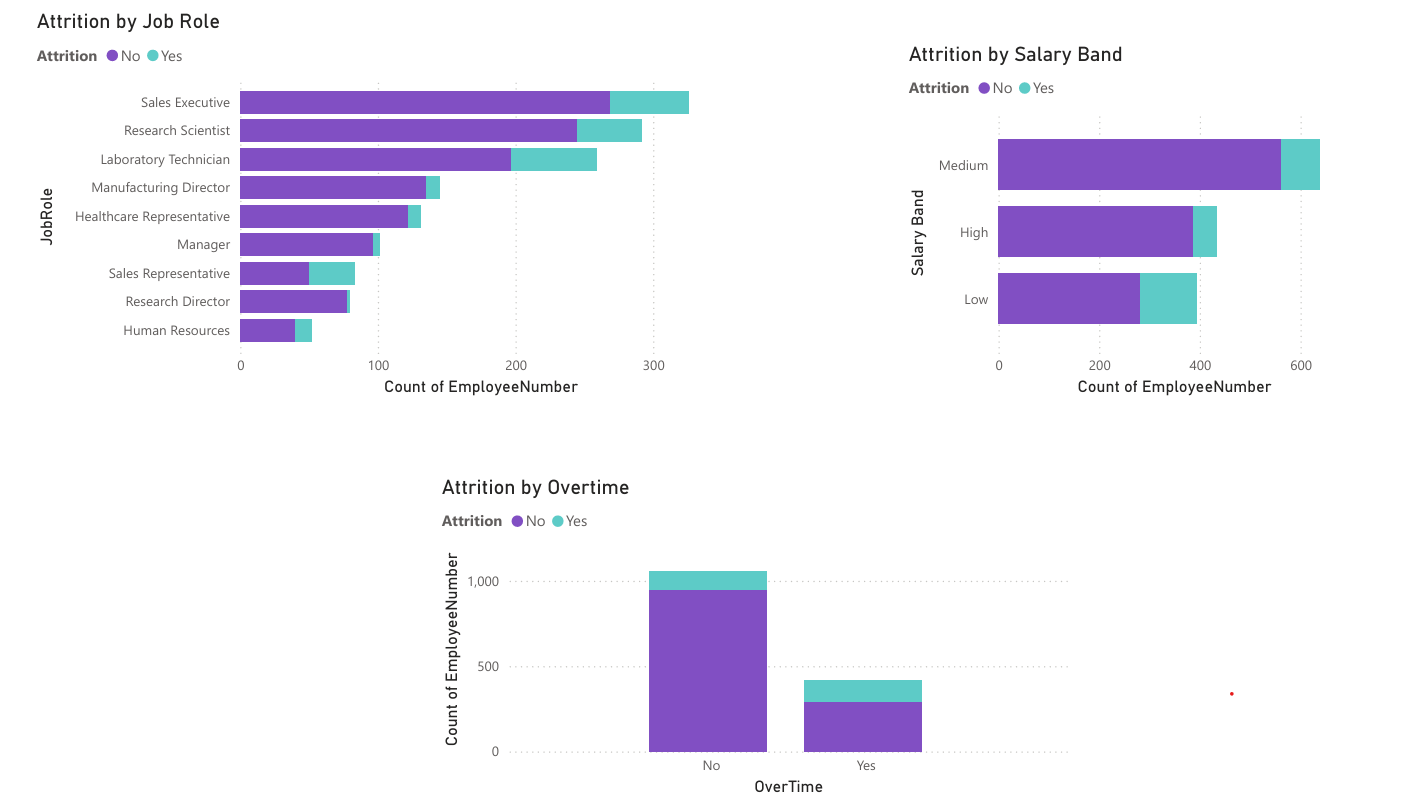

The dashboard page shown, as its layout file describes it:
{"tool":"powerbi","page":{"name":"Attrition Analysis","canvas":[1280,720],"ordinal":2},"visuals":[{"type":"barChart","title":"Attrition by Job Role","fields":{"Series":["IBM_HR_DATASET.Attrition"],"Category":["IBM_HR_DATASET.JobRole"],"Y":["CountNonNull(IBM_HR_DATASET.EmployeeNumber)"]},"box":[9.6,0,629.8,348.5],"z":0},{"type":"barChart","title":"Attrition by Salary Band","fields":{"Category":["IBM_HR_DATASET.Salary Band"],"Y":["CountNonNull(IBM_HR_DATASET.EmployeeNumber)"],"Series":["IBM_HR_DATASET.Attrition"]},"box":[784.9,28.8,413,319.7],"z":1},{"type":"columnChart","title":"Attrition by Overtime","fields":{"Category":["IBM_HR_DATASET.OverTime"],"Y":["CountNonNull(IBM_HR_DATASET.EmployeeNumber)"],"Series":["IBM_HR_DATASET.Attrition"]},"box":[370.5,414.4,565.4,289.5],"z":2}]}

Visuals, with their boxes in screenshot pixels (x1, y1, x2, y2), scaled from the page's 1280x720 canvas onto the 1417x810 screenshot:
"Attrition by Job Role" barChart: pyautogui.locateOnScreen(11, 0, 708, 392)
"Attrition by Salary Band" barChart: pyautogui.locateOnScreen(869, 32, 1326, 392)
"Attrition by Overtime" columnChart: pyautogui.locateOnScreen(410, 466, 1036, 792)
